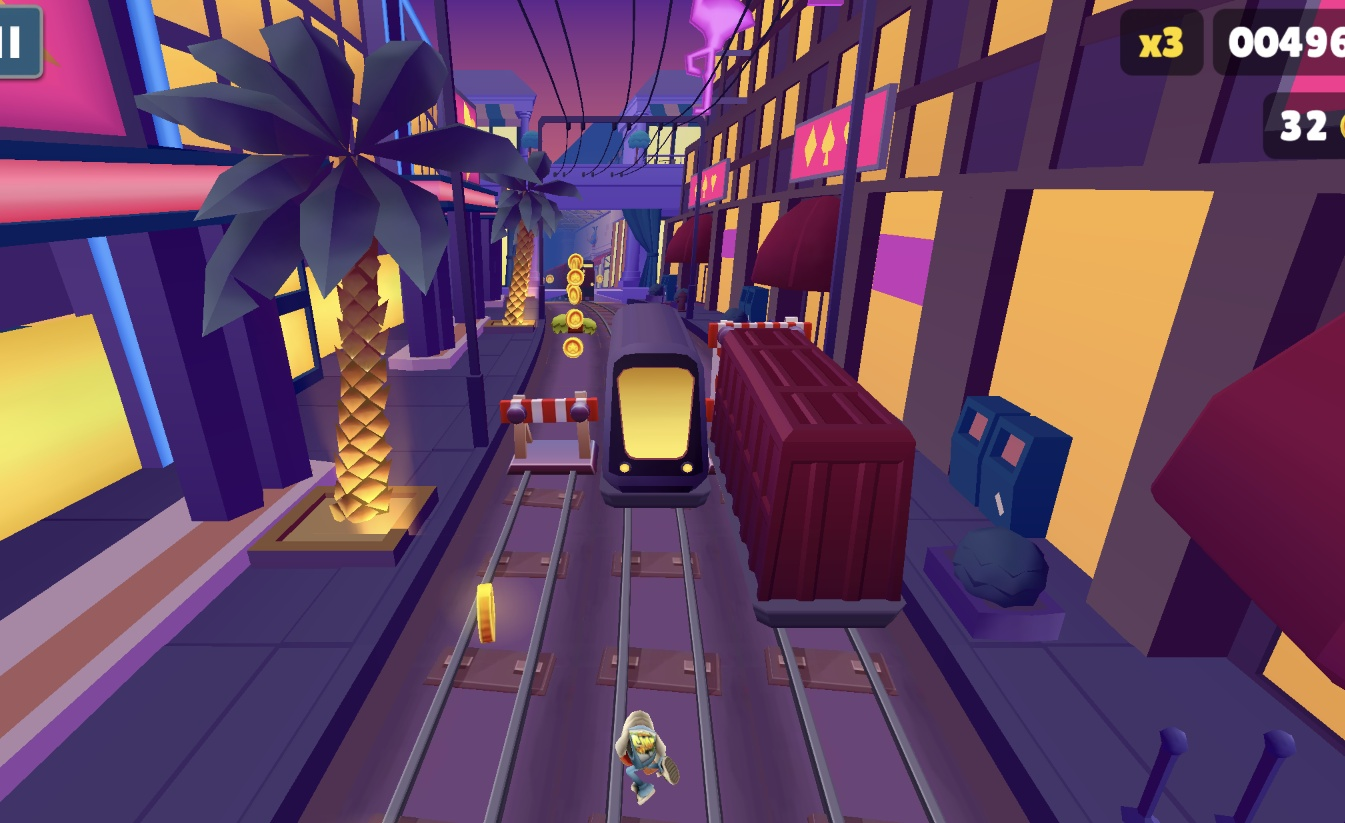bush: (550, 313, 569, 334), (581, 317, 597, 335)
ground_barrier: (501, 396, 599, 477)
overhead_barrier: (705, 316, 812, 476)
small_obstacle: (566, 316, 583, 333)
train: (706, 320, 923, 637), (589, 287, 714, 510), (543, 260, 595, 304)
